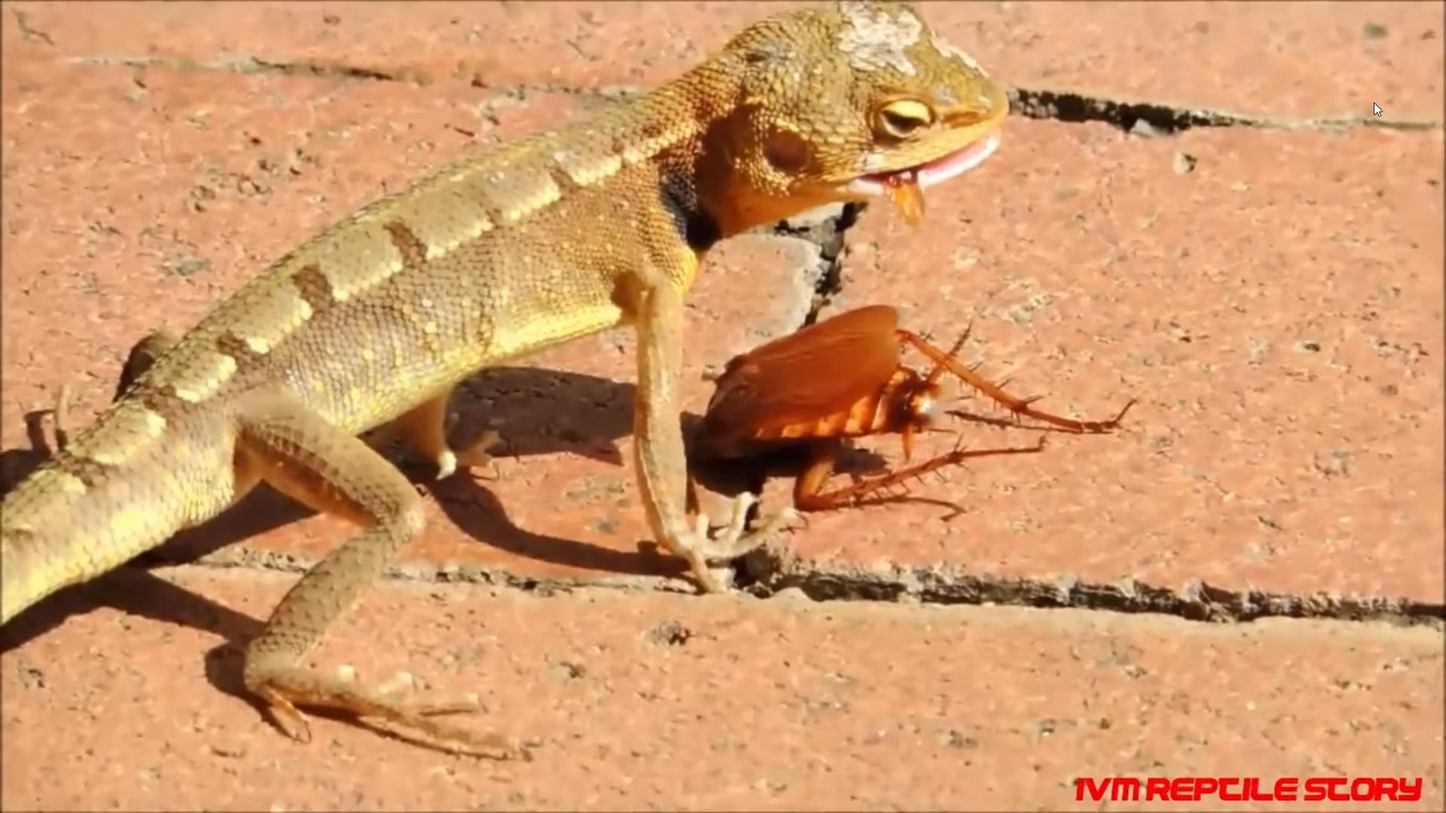cockroach: (708, 301, 976, 500)
lizard: (53, 4, 1012, 762)
